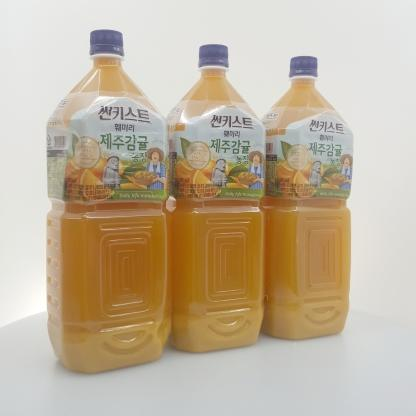-----------2L: (46, 29, 172, 373), (164, 44, 266, 353), (259, 56, 353, 340)
